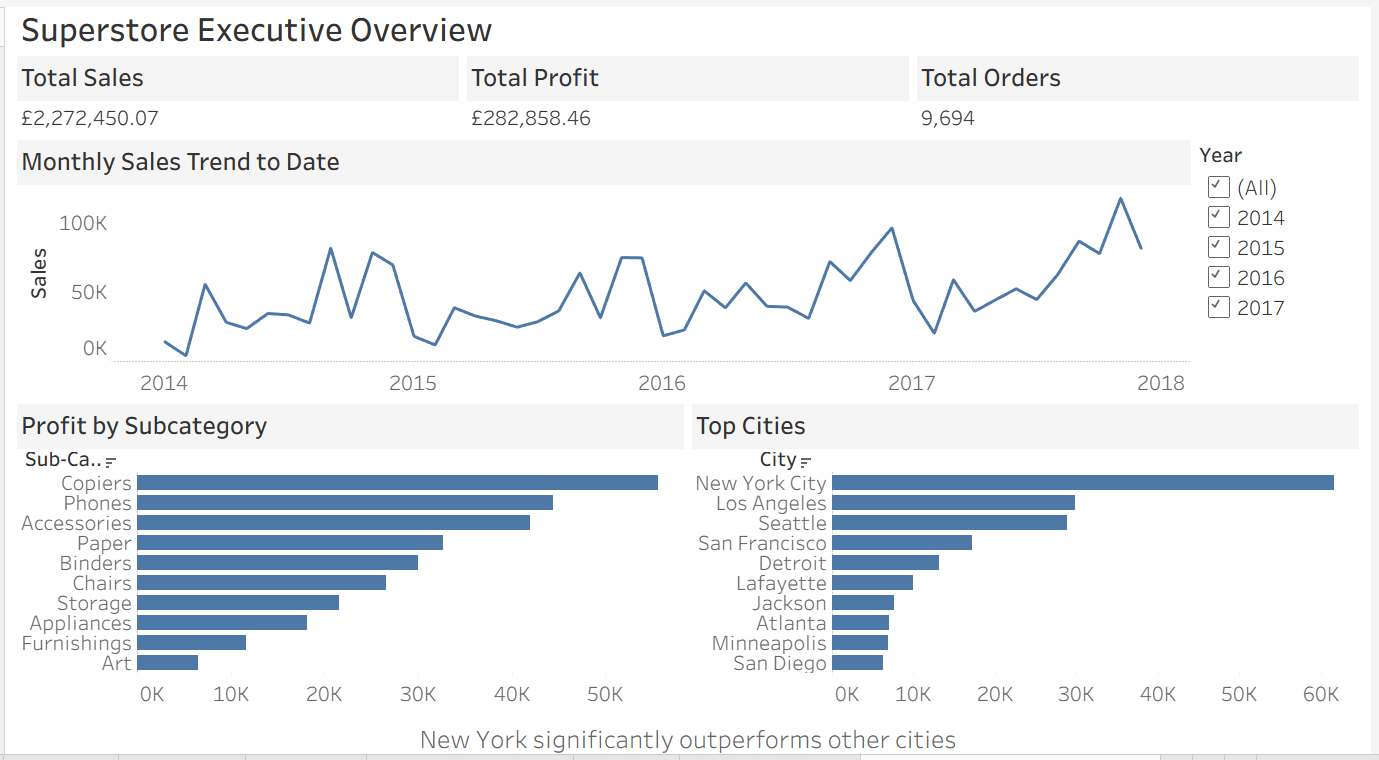

The dashboard page shown, as its layout file describes it:
{"tool":"tableau","page":{"name":"Superstore Executive Overview","canvas":[1366,768],"ordinal":0},"visuals":[{"type":"title","box":[8,8,1350,47]},{"type":"worksheet","title":"Total Sales","mark":"Automatic","box":[8,55,450,84]},{"type":"worksheet","title":"Total Profit","mark":"Automatic","box":[458,55,450,84]},{"type":"worksheet","title":"Total Orders","mark":"Automatic","box":[908,55,450,84]},{"type":"worksheet","title":"Sales Trend","mark":"Automatic","rows":["sales"],"cols":["order_date"],"box":[8,139,1182,264.4]},{"type":"filter","title":"Sales Trend","param":"[federated.1dh6iev1au44sc14lnibp1ckr4q3].[none:year:ok]","box":[1190,139,168,264.4]},{"type":"worksheet","title":"Profit by Subcategory","mark":"Automatic","rows":["sub-category"],"cols":["profit"],"box":[8,403.4,675,319.6]},{"type":"worksheet","title":"Top Cities","mark":"Automatic","rows":["city"],"cols":["profit"],"box":[683,403.4,675,319.6]},{"type":"text","box":[8,723,1350,37]}]}

Visuals, with their boxes in screenshot pixels (x1, y1, x2, y2), scaled from the page's 1366x768 canvas onto the 1379x760 screenshot:
title: detection(8, 8, 1371, 54)
"Total Sales" worksheet: detection(8, 54, 462, 138)
"Total Profit" worksheet: detection(462, 54, 917, 138)
"Total Orders" worksheet: detection(917, 54, 1371, 138)
"Sales Trend" worksheet: detection(8, 138, 1201, 399)
"Sales Trend" filter: detection(1201, 138, 1371, 399)
"Profit by Subcategory" worksheet: detection(8, 399, 689, 715)
"Top Cities" worksheet: detection(689, 399, 1371, 715)
text: detection(8, 715, 1371, 752)
